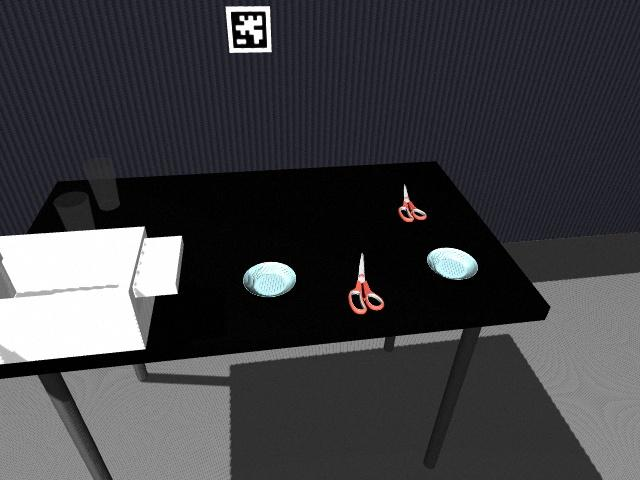cup: (54, 191, 93, 231), (86, 168, 119, 211)
plate: (241, 260, 299, 299), (425, 246, 479, 281)
scissors: (347, 250, 387, 315), (399, 183, 429, 223)
